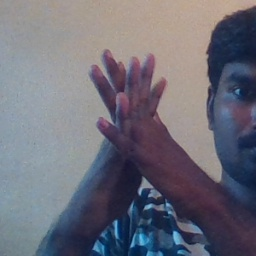W: (80, 41, 182, 189)
